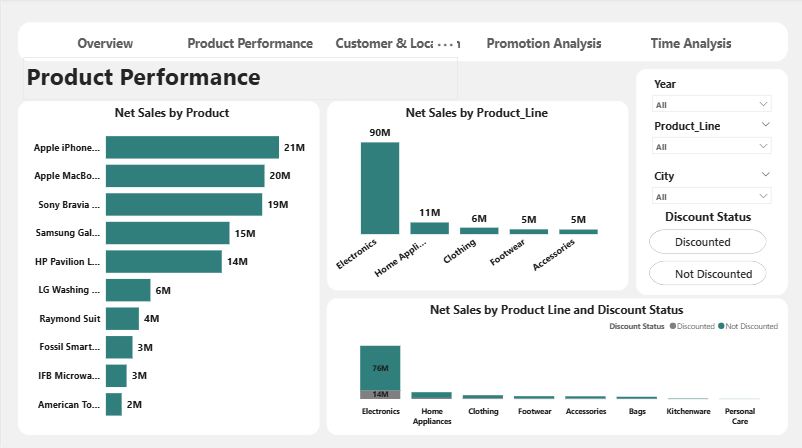

Layout of this report page (visuals, bound fields, positions):
{"tool":"powerbi","page":{"name":"Product Performance","canvas":[1280,720],"ordinal":1},"visuals":[{"type":"barChart","title":"Net Sales by Product","fields":{"Category":["dim_product.Product_Name"],"Y":["Sum(fact_sales.Net_Sales)"]},"box":[34.5,169,474.3,520.2],"z":0},{"type":"columnChart","title":"Net Sales by Product_Line","fields":{"Category":["dim_product.Product_Line"],"Y":["Sum(fact_sales.Net_Sales)"]},"box":[525.8,169.5,463.6,292.3],"z":1000},{"type":"columnChart","title":"Net Sales by Product Line and Discount Status","fields":{"Y":["Sum(fact_sales.Net_Sales)"],"Category":["dim_product.Product_Line"],"Series":["fact_sales.Discount Status"]},"box":[522.5,482.7,724.8,207.1],"z":2000},{"type":"slicer","fields":{"Values":["fact_sales.Year"]},"box":[1027.4,119.5,210.3,66.9],"z":3000},{"type":"slicer","fields":{"Values":["dim_product.Product_Line"]},"box":[1027.4,186.4,210.3,68.5],"z":4000},{"type":"slicer","fields":{"Values":["dim_customer.City"]},"box":[1027.4,266,210.3,68.5],"z":5000},{"type":"actionButton","title":"Overview","box":[55.8,49.2,220,45],"z":6000},{"type":"actionButton","box":[287.2,49.2,219.9,44.3],"z":7000},{"type":"actionButton","box":[521.8,49.2,219.9,44.3],"z":8000},{"type":"actionButton","box":[754.9,49.2,219.9,44.3],"z":9000},{"type":"actionButton","box":[989.5,49.2,219.9,44.3],"z":10000},{"type":"listSlicer","fields":{"Values":["fact_sales.Discount Status"]},"box":[1027.4,334.5,197.5,129],"z":11000},{"type":"textbox","box":[35,94,692.9,68.5],"z":12000}]}

Visuals, with their boxes in screenshot pixels (x1, y1, x2, y2), scaled from the page's 1280x720 canvas onto the 802x448 screenshot:
"Net Sales by Product" barChart: {"x1": 22, "y1": 105, "x2": 319, "y2": 429}
"Net Sales by Product_Line" columnChart: {"x1": 329, "y1": 105, "x2": 620, "y2": 287}
"Net Sales by Product Line and Discount Status" columnChart: {"x1": 327, "y1": 300, "x2": 782, "y2": 429}
slicer - fact_sales.Year: {"x1": 644, "y1": 74, "x2": 775, "y2": 116}
slicer - dim_product.Product_Line: {"x1": 644, "y1": 116, "x2": 775, "y2": 159}
slicer - dim_customer.City: {"x1": 644, "y1": 166, "x2": 775, "y2": 208}
"Overview" actionButton: {"x1": 35, "y1": 31, "x2": 173, "y2": 59}
actionButton: {"x1": 180, "y1": 31, "x2": 318, "y2": 58}
actionButton: {"x1": 327, "y1": 31, "x2": 465, "y2": 58}
actionButton: {"x1": 473, "y1": 31, "x2": 611, "y2": 58}
actionButton: {"x1": 620, "y1": 31, "x2": 758, "y2": 58}
listSlicer - fact_sales.Discount Status: {"x1": 644, "y1": 208, "x2": 767, "y2": 288}
textbox: {"x1": 22, "y1": 58, "x2": 456, "y2": 101}
